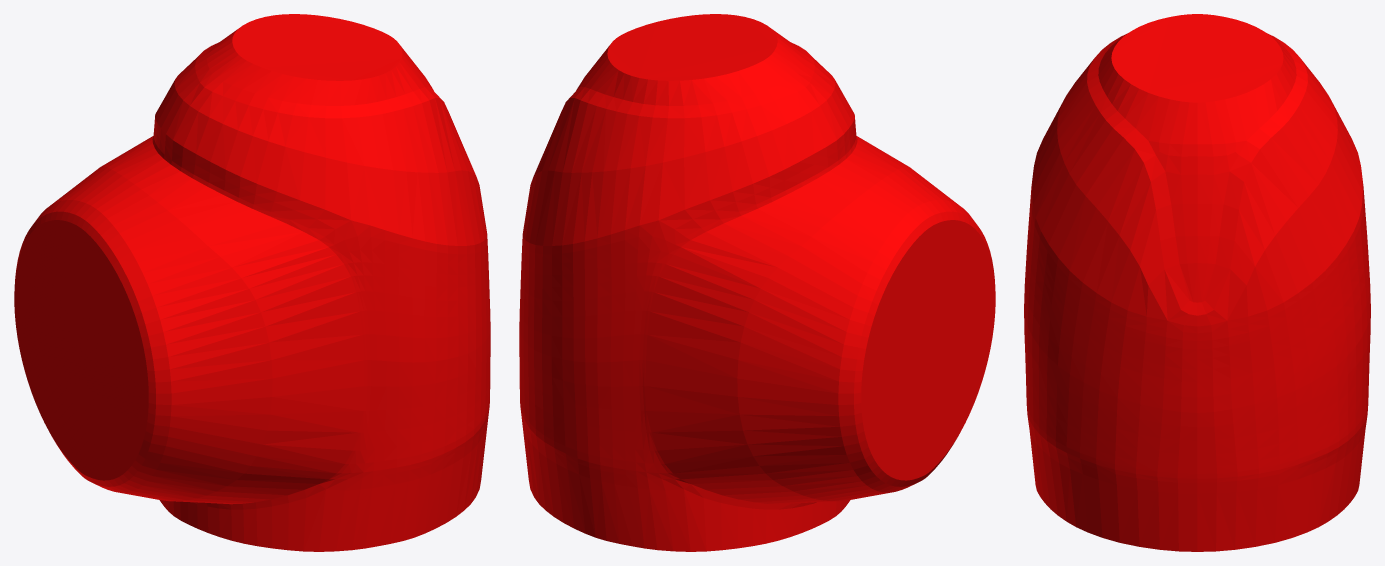
3 views of the same model, side by side, from view 1: azimuth 30°, elevation 25°; view 2: azimuth 150°, elevation 25°; view 3: azimuth 270°, elevation 25° (orthographic).
Parts seen in each view (by area): view 1: MF0617_2_2; view 2: MF0617_2_2; view 3: MF0617_2_2.
Part boxes in pixels (<box>): MF0617_2_2: <box>14,14,490,551</box>; MF0617_2_2: <box>519,14,995,551</box>; MF0617_2_2: <box>1024,14,1370,551</box>.
Size of the model in its own units: 176 by 139 by 192.
